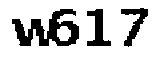1: (84, 8, 112, 50)
6: (51, 6, 80, 46)
7: (117, 4, 150, 50)
w: (5, 17, 51, 46)
